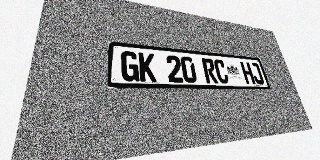0: (180, 56, 197, 83)
2: (166, 55, 183, 82)
C: (213, 59, 230, 84)
G: (121, 51, 139, 81)
H: (240, 62, 256, 84)
J: (249, 62, 265, 84)
K: (138, 52, 156, 82)
R: (201, 58, 218, 83)
